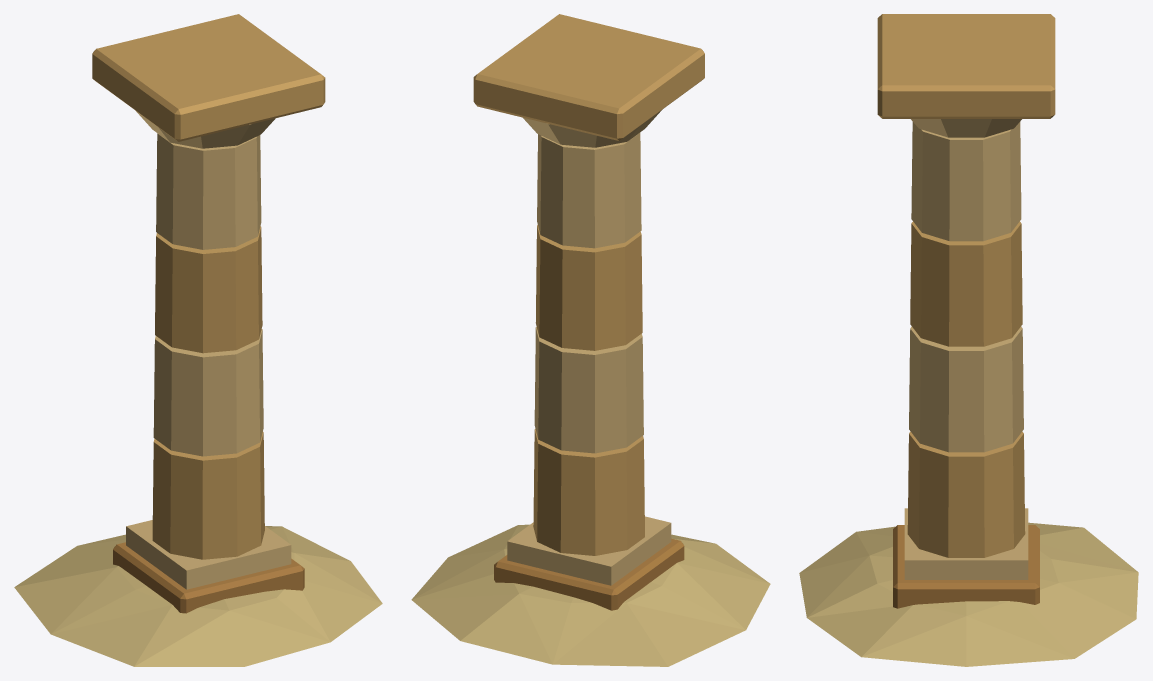
File: pyramid_ruin_pillar.glb
The picture shows the model from 3 angles, left to right: view 1: azimuth 30°, elevation 25°; view 2: azimuth 150°, elevation 25°; view 3: azimuth 270°, elevation 25°; orthographic projection. The views are drawn at different scales.
Visible parts, largest first — view 1: pyramid_ruin_pillar; view 2: pyramid_ruin_pillar; view 3: pyramid_ruin_pillar.
Part boxes in pixels (x1,y1,x2,y2): pyramid_ruin_pillar: (14,14,382,666); pyramid_ruin_pillar: (411,14,770,666); pyramid_ruin_pillar: (799,14,1138,666).
Size of the model in its own units: 2.29 by 3.9 by 2.19.
